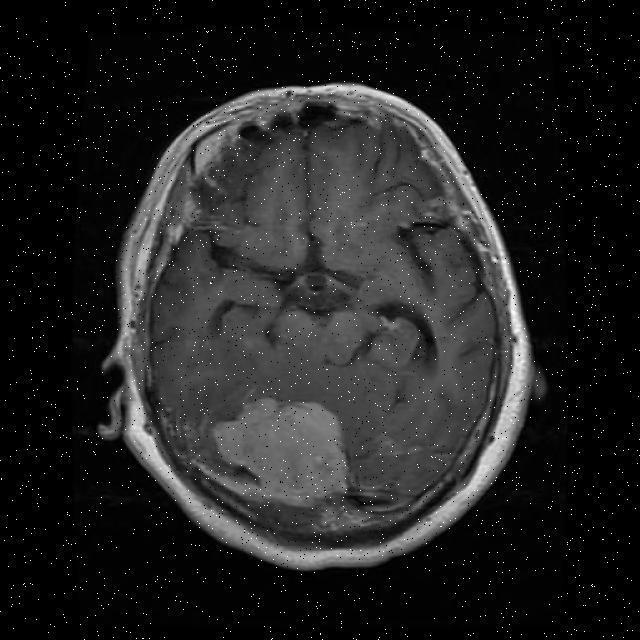Meningioma: (195, 398, 348, 507)
